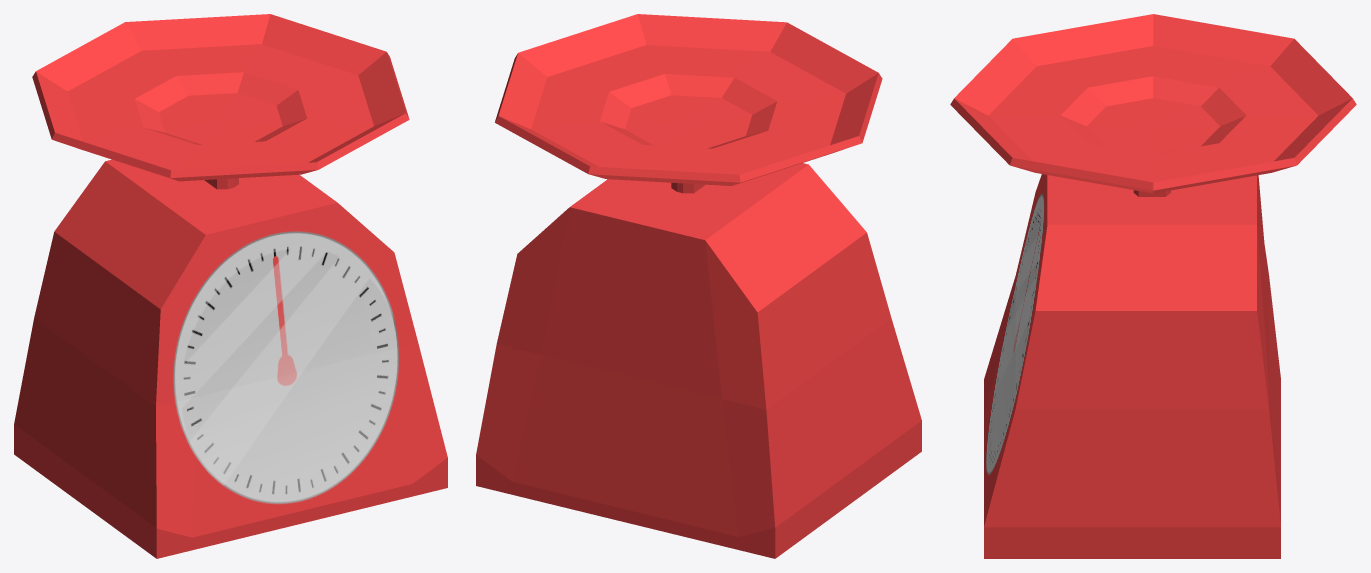
File: kitchen_scale 1.fbx
The picture shows the model from 3 angles, left to right: view 1: azimuth 30°, elevation 25°; view 2: azimuth 150°, elevation 25°; view 3: azimuth 270°, elevation 25°; orthographic projection. The views are drawn at different scales.
Parts seen in each view (by area): view 1: kitchen_scale; view 2: kitchen_scale; view 3: kitchen_scale.
Part boxes in pixels (x1=…): kitchen_scale: x1=14, y1=14, x2=447, y2=558; kitchen_scale: x1=476, y1=14, x2=921, y2=558; kitchen_scale: x1=950, y1=14, x2=1356, y2=558.
Bounding box in the file's own units: 0.5293 × 0.5556 × 0.5293.
1 material, 1 textured.
